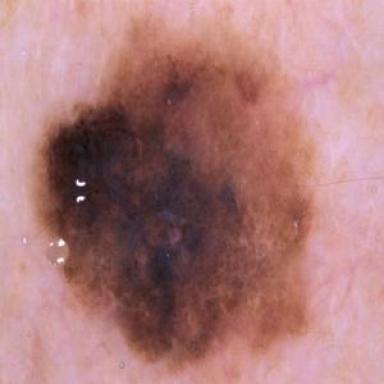Melanoma: (43, 22, 311, 360)
